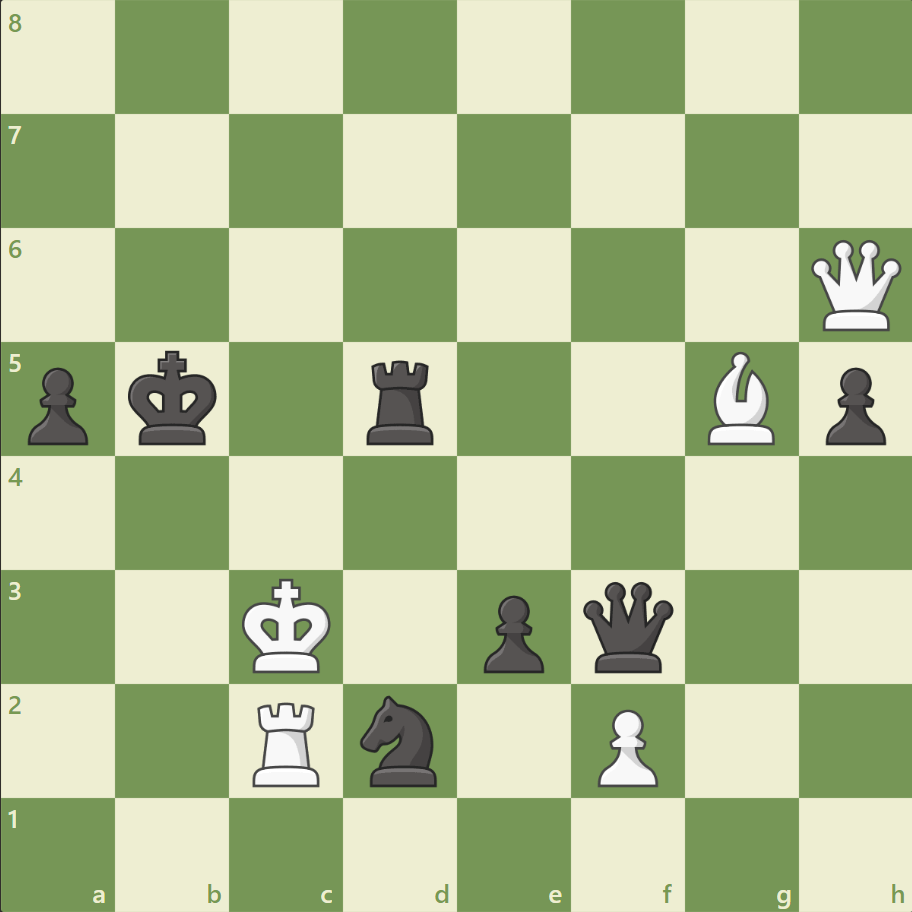B: (698, 347, 782, 449)
K: (238, 571, 338, 679)
P: (588, 700, 662, 791)
Q: (805, 236, 904, 335)
R: (246, 693, 329, 790)
k: (124, 344, 224, 452)
n: (351, 688, 449, 791)
p: (20, 359, 95, 450), (474, 586, 549, 677), (815, 359, 889, 450)
q: (578, 576, 677, 676)
r: (360, 352, 442, 449)
